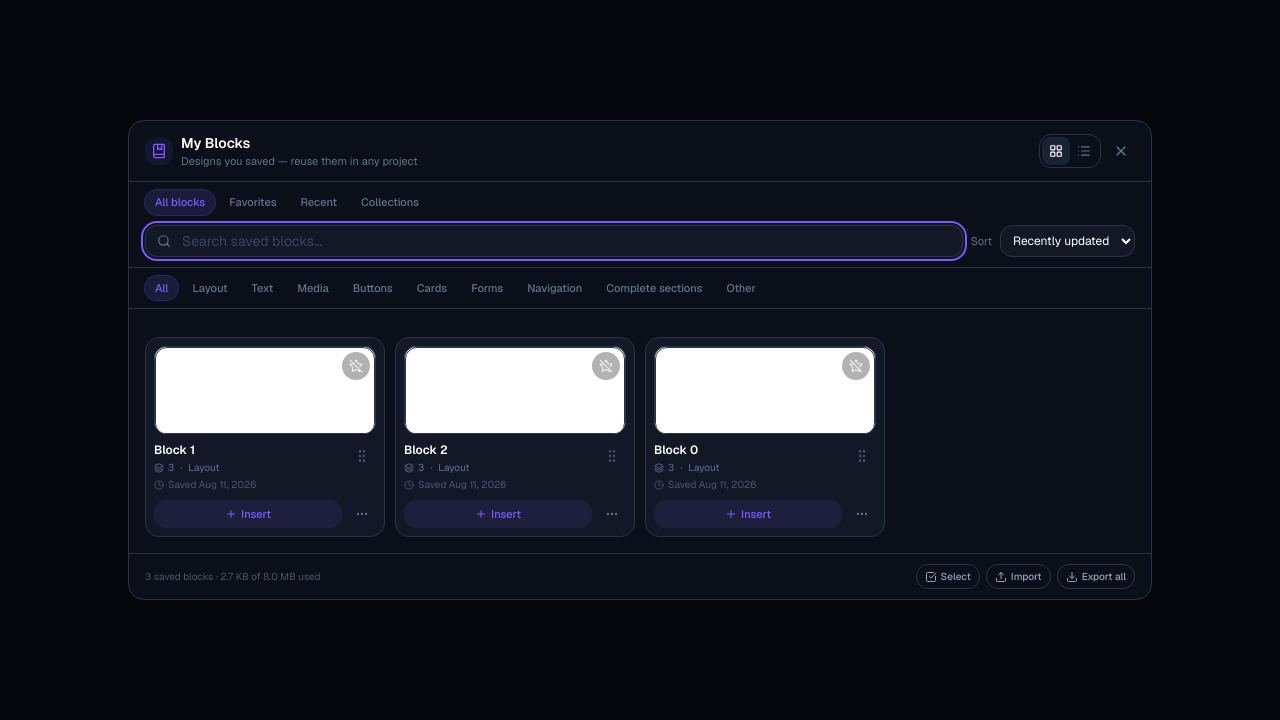
Test: MyBlocksLibrary — selection mode and bulk actions › Select all visible selects every visible card; Clear empties it
This screenshot has width=1280, height=720.
Click the button with test id "my-blocks-select-mode".
click(948, 577)  # box [916,564,980,589]
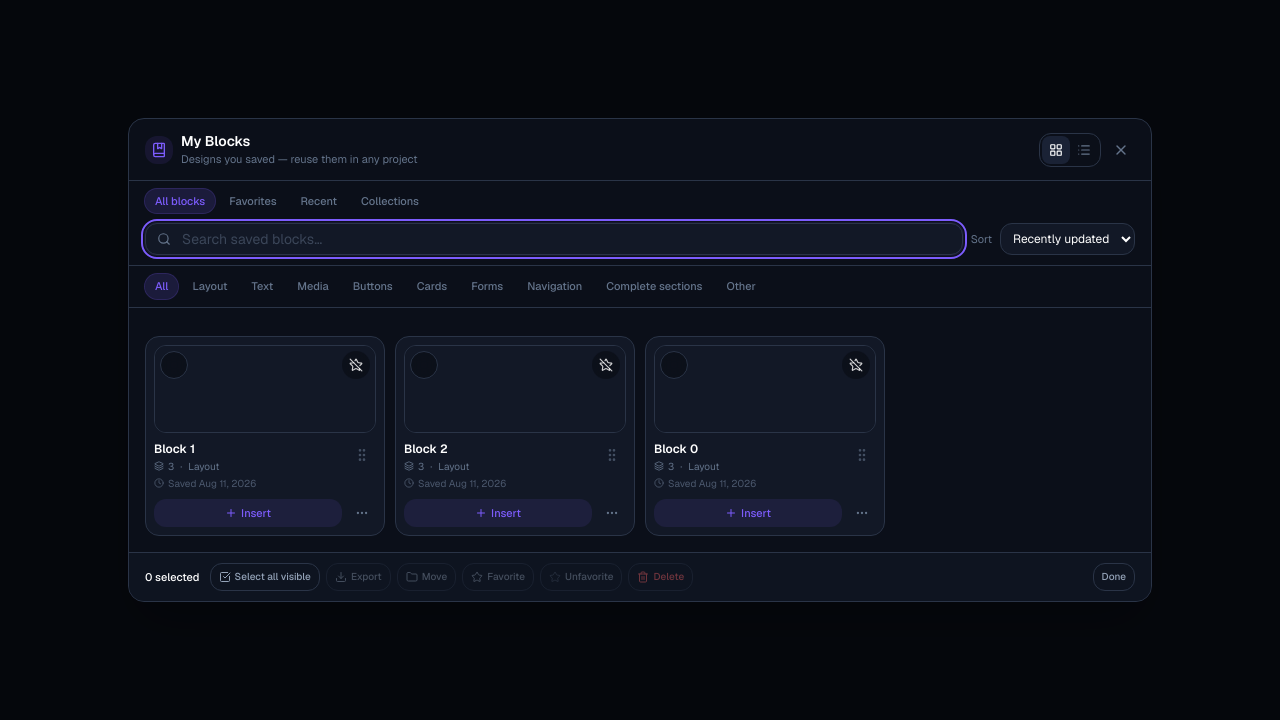
Result: the button with test id "my-blocks-select-all" is shown
Click the button with test id "my-blocks-select-all".
click(265, 577)  # box [210,563,320,591]
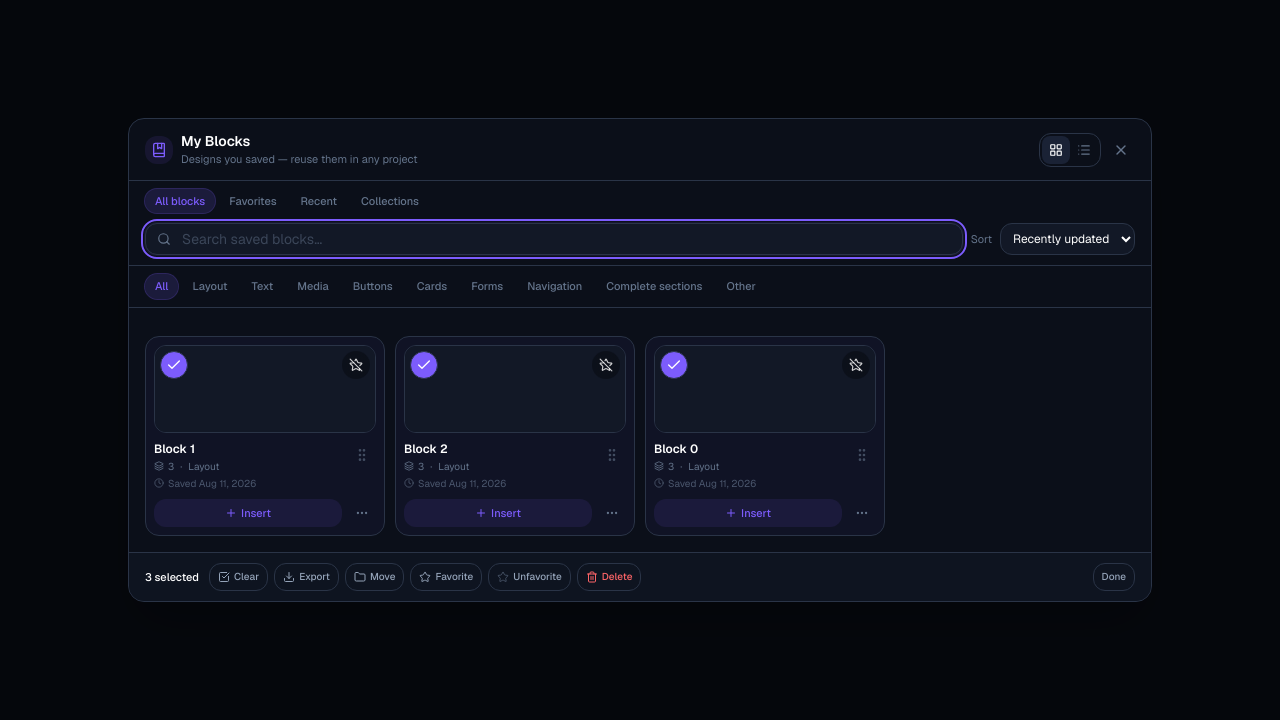
Result: the text "3 selected" is shown at [145,568,199,585]
Note: Toggle becomes Clear when everything is selected.
Click the button with test id "my-blocks-select-all".
click(239, 577)  # box [209,563,268,591]
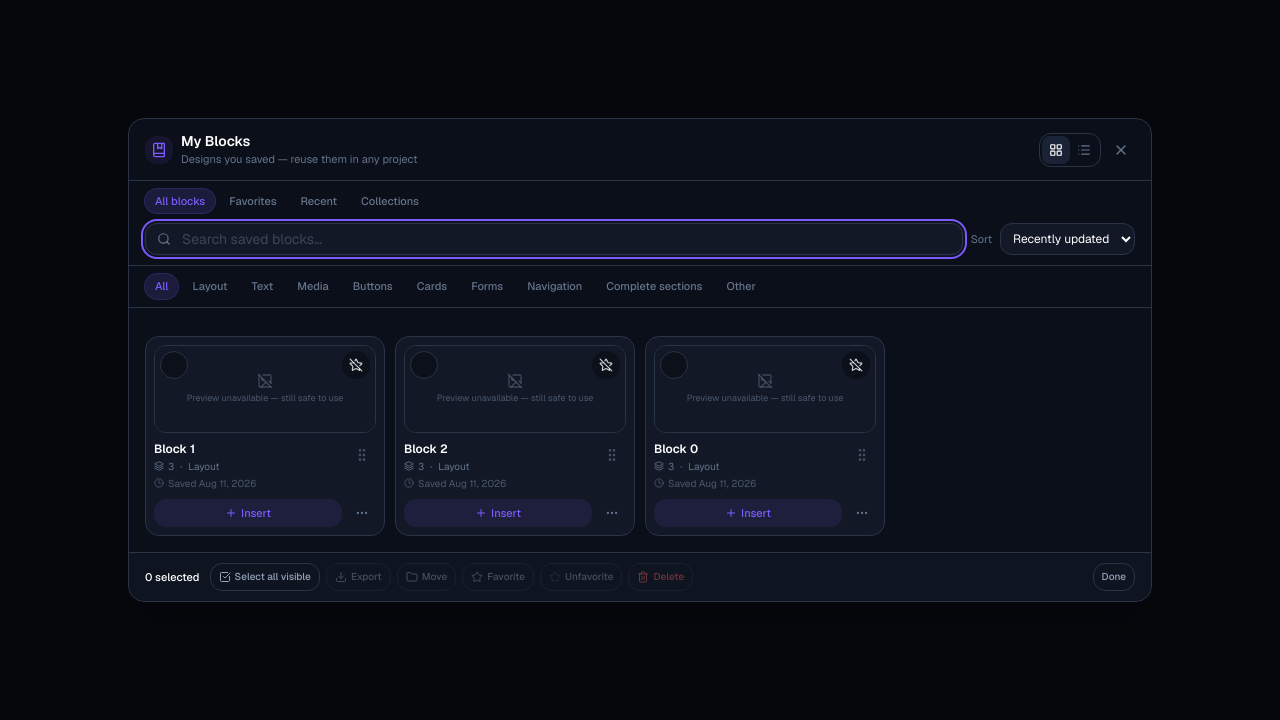
Result: the text "0 selected" is shown at [145,568,200,585]
